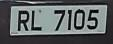0: (73, 8, 87, 32)
1: (65, 8, 74, 32)
5: (86, 7, 99, 33)
7: (53, 8, 67, 33)
L: (30, 9, 44, 33)
R: (15, 9, 31, 33)
